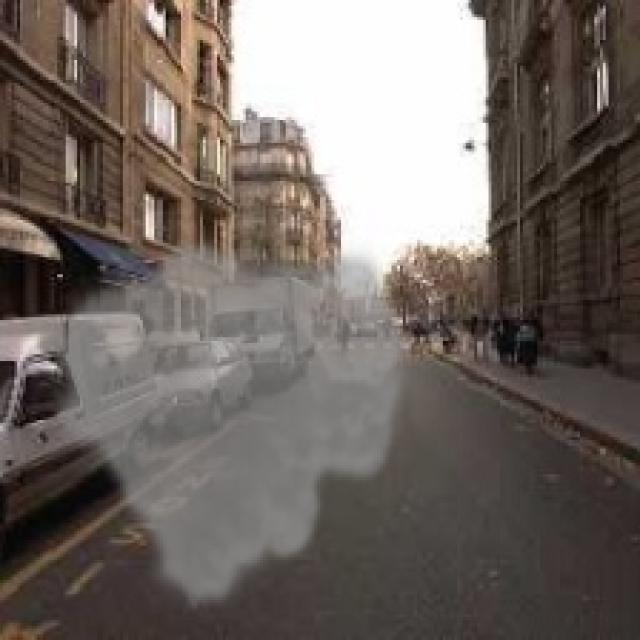smoke: (43, 237, 414, 617)
